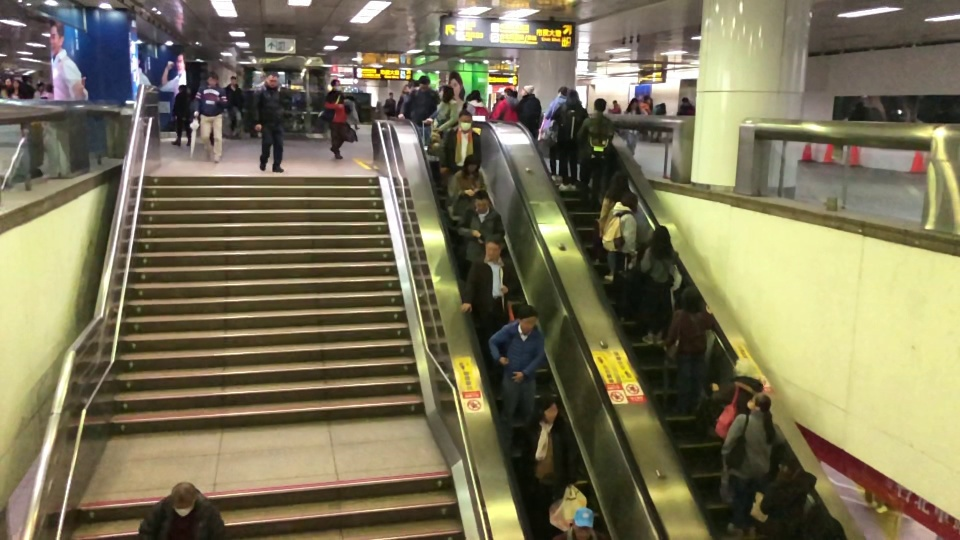person_head: (169, 481, 196, 517), (805, 503, 828, 532), (680, 285, 702, 311), (483, 233, 504, 259), (516, 304, 536, 331), (572, 512, 592, 539), (733, 357, 759, 377), (652, 224, 672, 246), (540, 396, 558, 420), (747, 392, 771, 410), (609, 170, 629, 190), (463, 153, 481, 174), (473, 189, 489, 212), (622, 190, 639, 211), (457, 109, 473, 128), (438, 83, 454, 101), (265, 71, 279, 88), (776, 462, 790, 478), (205, 71, 218, 86), (593, 97, 606, 112), (566, 89, 578, 102), (419, 76, 430, 90), (330, 78, 341, 91), (471, 89, 481, 100), (4, 78, 13, 88), (521, 85, 530, 95), (178, 83, 186, 93), (557, 86, 567, 94), (12, 80, 21, 88), (505, 88, 512, 97), (681, 96, 688, 104), (230, 75, 236, 84), (631, 99, 637, 107), (45, 83, 51, 90), (644, 95, 649, 103), (661, 102, 665, 109), (388, 91, 392, 97), (613, 100, 617, 105)
person_vbox: (721, 391, 785, 533), (513, 396, 579, 503), (487, 305, 544, 427), (664, 285, 713, 417), (460, 233, 516, 325), (137, 481, 224, 540), (640, 222, 678, 347), (758, 461, 815, 540), (576, 98, 614, 212), (438, 109, 483, 203), (710, 357, 761, 438), (252, 71, 290, 173), (552, 88, 587, 192), (456, 189, 504, 263), (597, 170, 628, 280), (601, 190, 639, 275), (193, 71, 228, 161), (446, 152, 486, 224), (400, 76, 436, 142), (544, 86, 567, 181), (324, 78, 349, 158), (171, 83, 192, 146), (432, 83, 458, 133), (224, 75, 244, 137), (516, 86, 541, 134), (626, 100, 644, 151), (492, 87, 519, 120), (466, 88, 488, 116), (650, 101, 665, 142), (677, 96, 695, 115), (385, 90, 395, 117), (9, 80, 23, 98), (40, 82, 54, 99), (640, 95, 649, 115), (609, 99, 621, 113)
